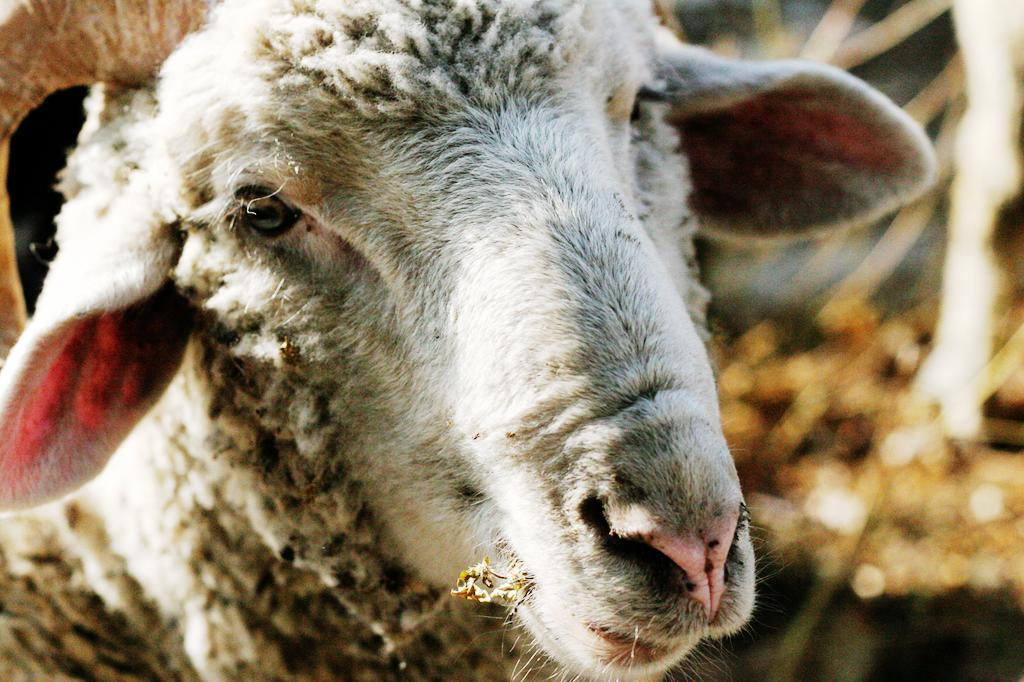Sheep: (0, 0, 939, 681)
